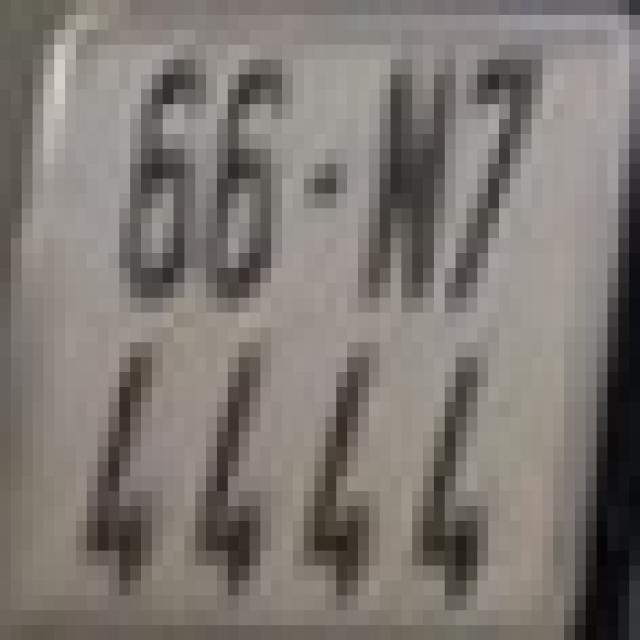4: (412, 357, 499, 610), (304, 342, 379, 610), (195, 342, 271, 596), (86, 342, 162, 596)
6: (119, 60, 206, 298), (206, 60, 282, 298)
7: (445, 60, 542, 298)
N: (358, 60, 445, 298)
